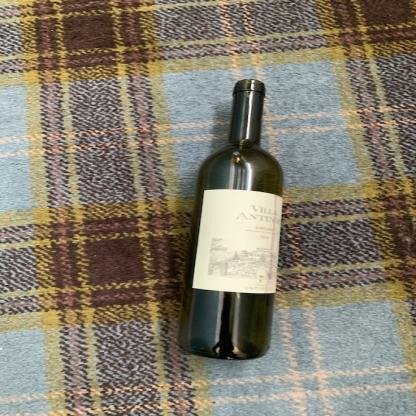trash: (179, 70, 286, 362)
